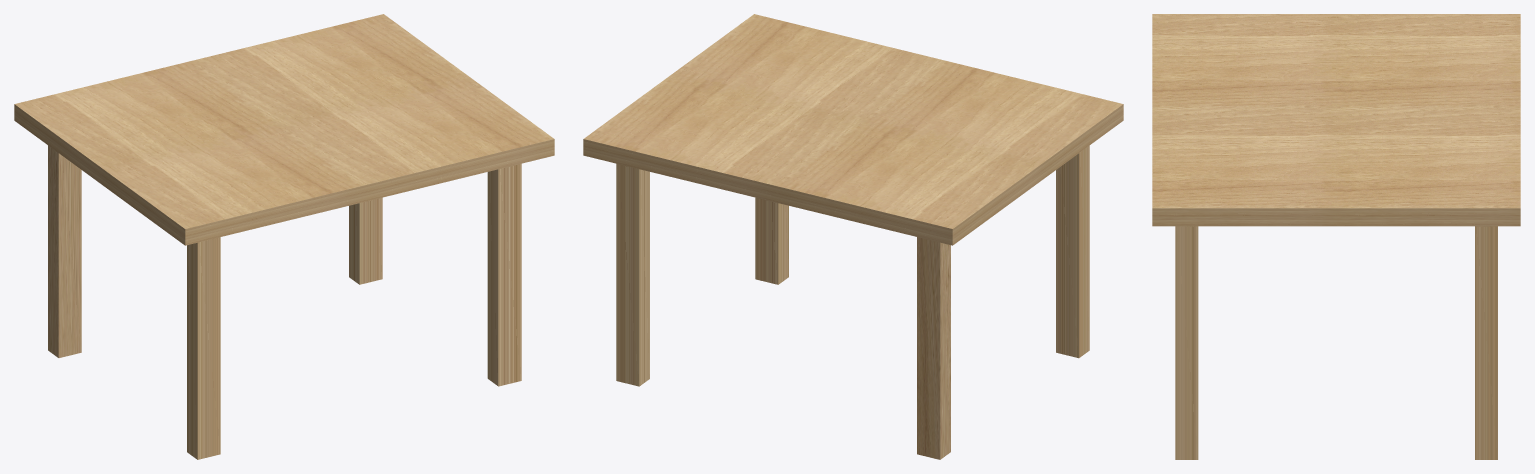
The picture shows the model from 3 angles, left to right: view 1: azimuth 30°, elevation 25°; view 2: azimuth 150°, elevation 25°; view 3: azimuth 270°, elevation 25°; orthographic projection. The views are drawn at different scales.
Bounding box in the file's own units: 1.57 × 0.9947 × 1.26.
1 material, 1 textured.
